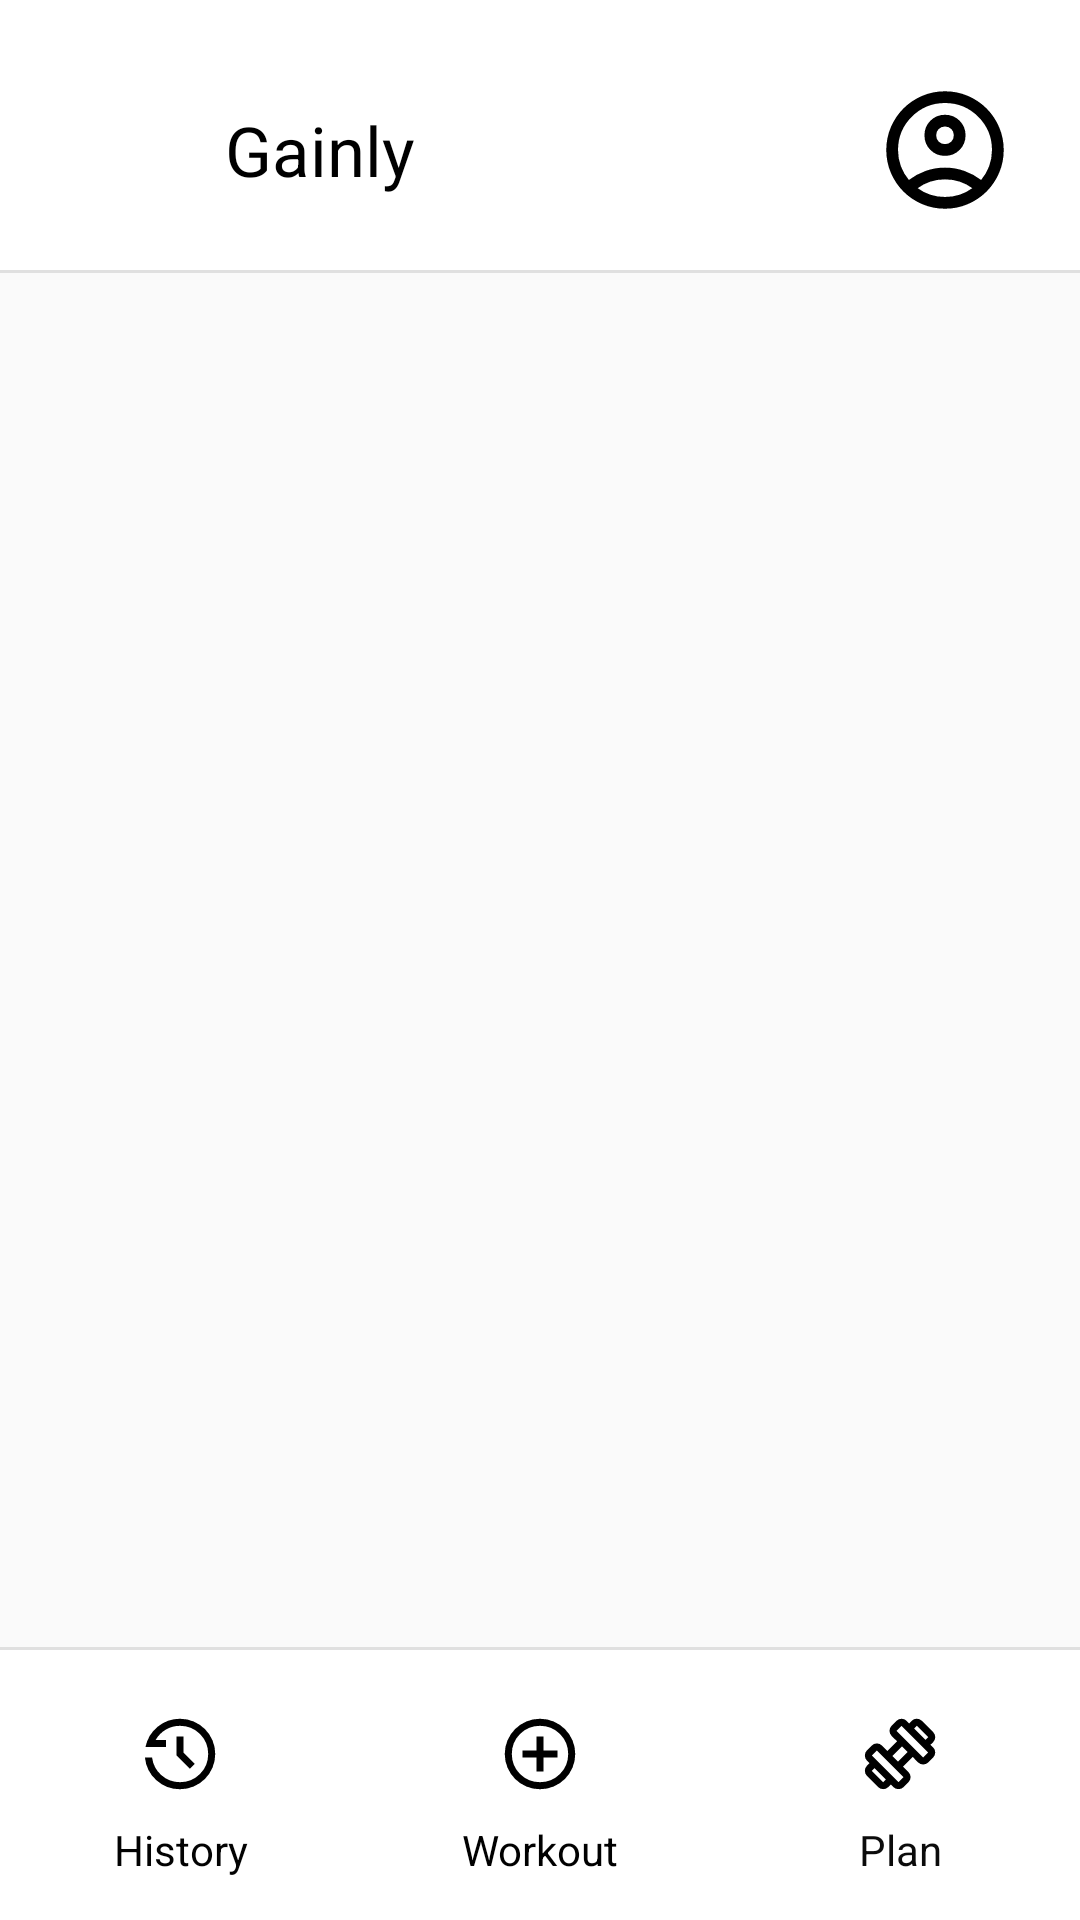

Point at icon controls on the screen. Image size 1080px×1920px, points as point (x, y).
add: point (540, 1754)
exercises: point (900, 1753)
profile: point (945, 150)
